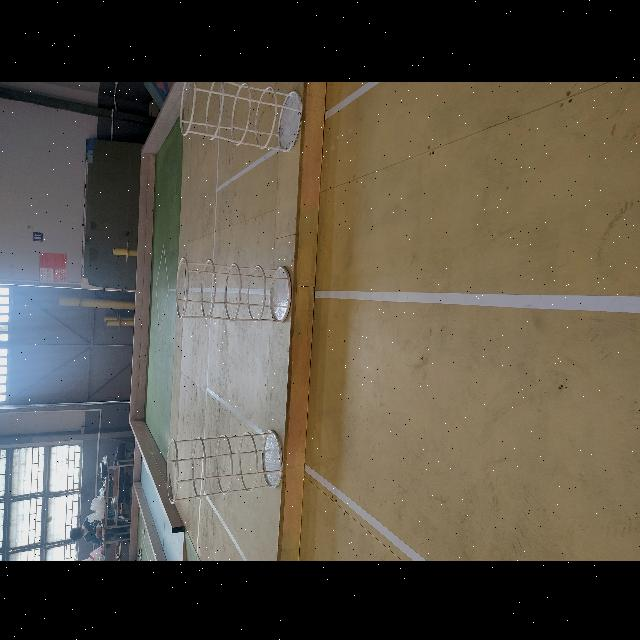S: (178, 80, 303, 153), (166, 427, 284, 504), (174, 256, 292, 323)
